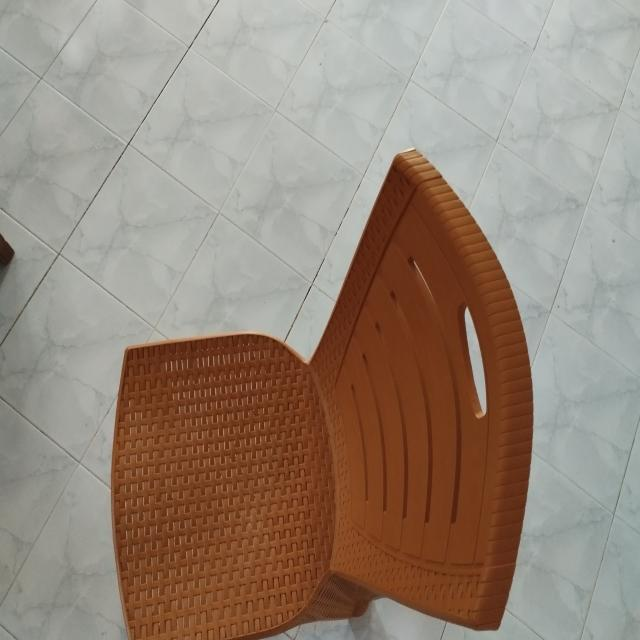chair: (108, 138, 572, 640)
